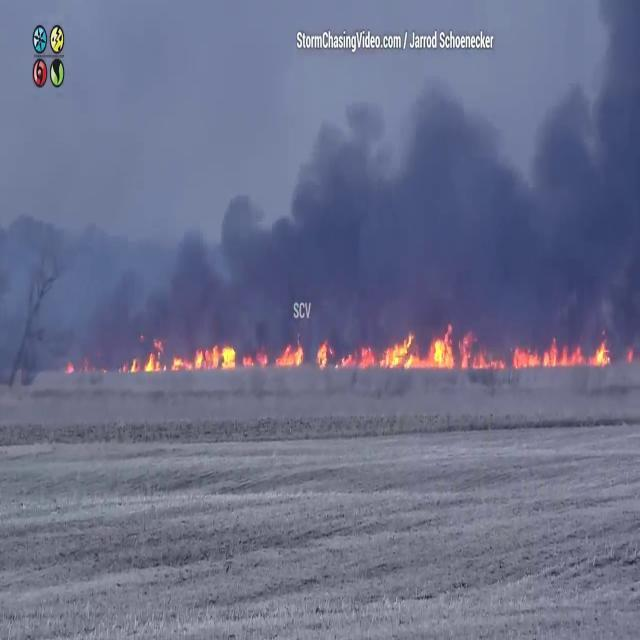Fire: (127, 321, 501, 378), (506, 331, 615, 374)
Smoke: (140, 74, 638, 370)
